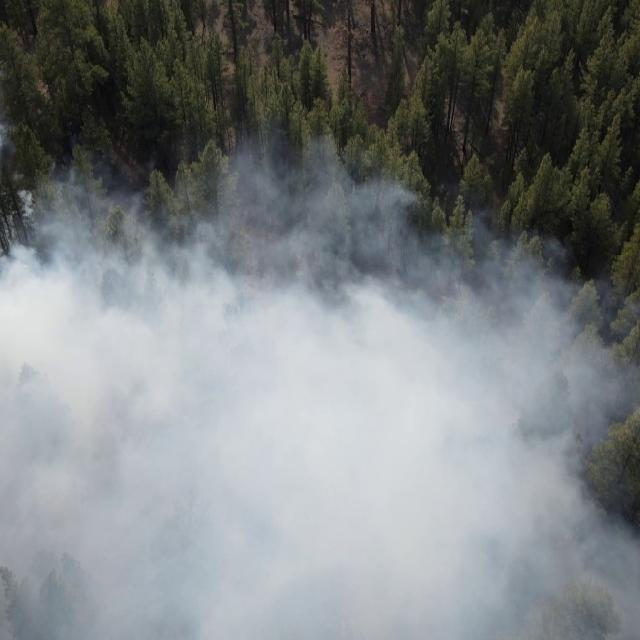smoke: (1, 247, 640, 640), (0, 172, 424, 248), (222, 128, 341, 172), (463, 220, 565, 248), (0, 124, 12, 150)
